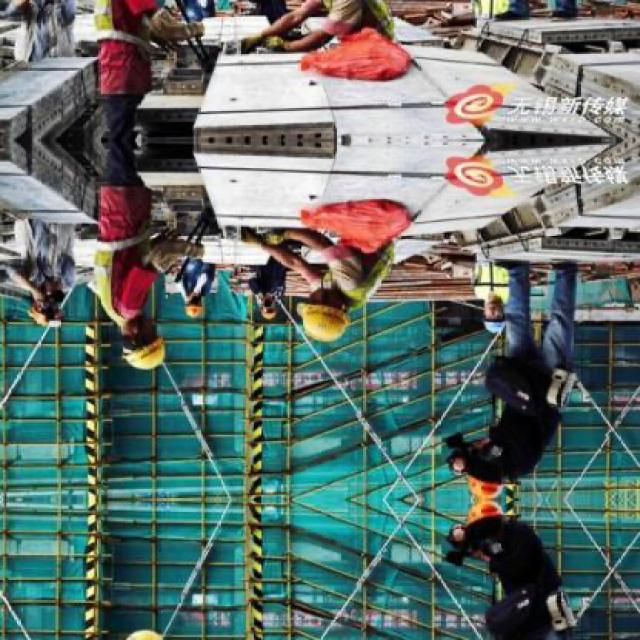con casco: (291, 278, 369, 364), (108, 300, 164, 383)
